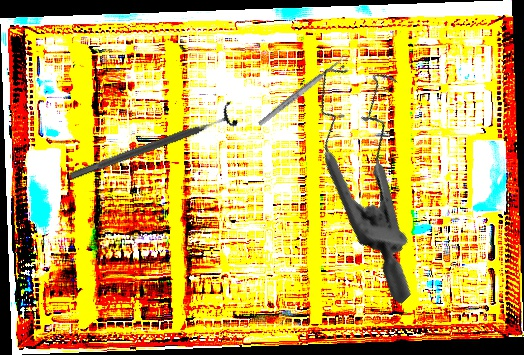Fixation Ring: (65, 100, 240, 189)
Speculum: (246, 39, 511, 306)
Surgical Spoon: (257, 52, 350, 128)
